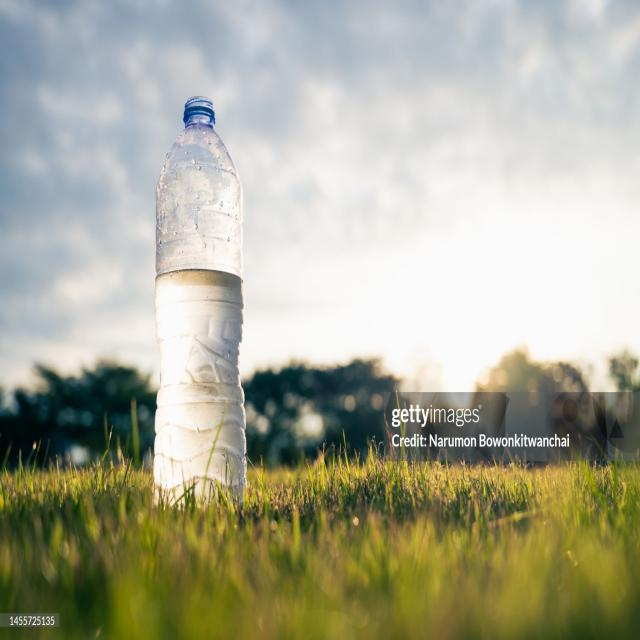bottle: (147, 93, 251, 518)
